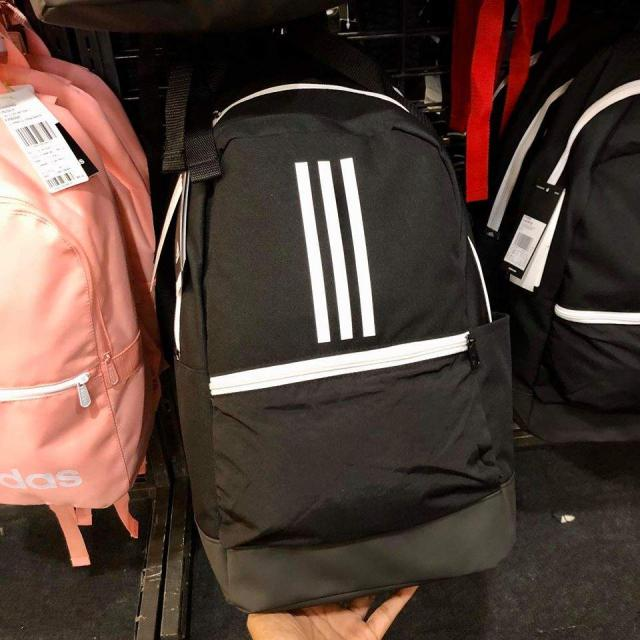Handbag: (145, 83, 541, 616)
